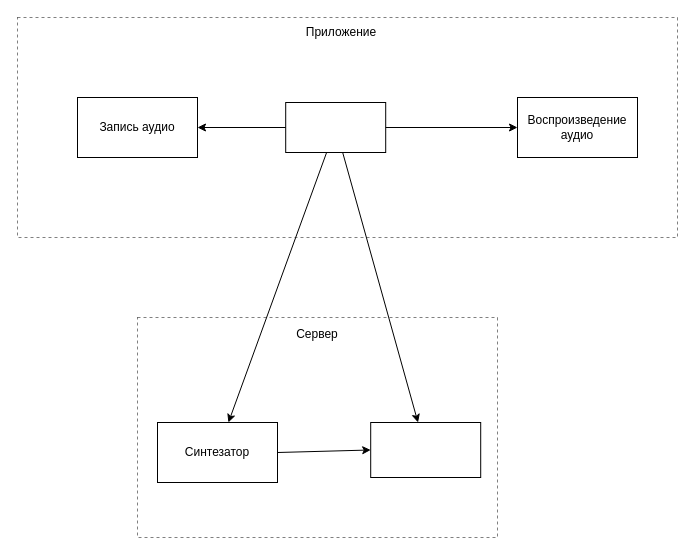
Some shapes in this 695 by 555 pixel diagram are drawn without their labels. The shapes that lost their labels are listed below. From the top down, each one's centre as x and y in pixels, then its label:
pixel 335 127: Интерфейс пользователя
pixel 425 450: База данных
